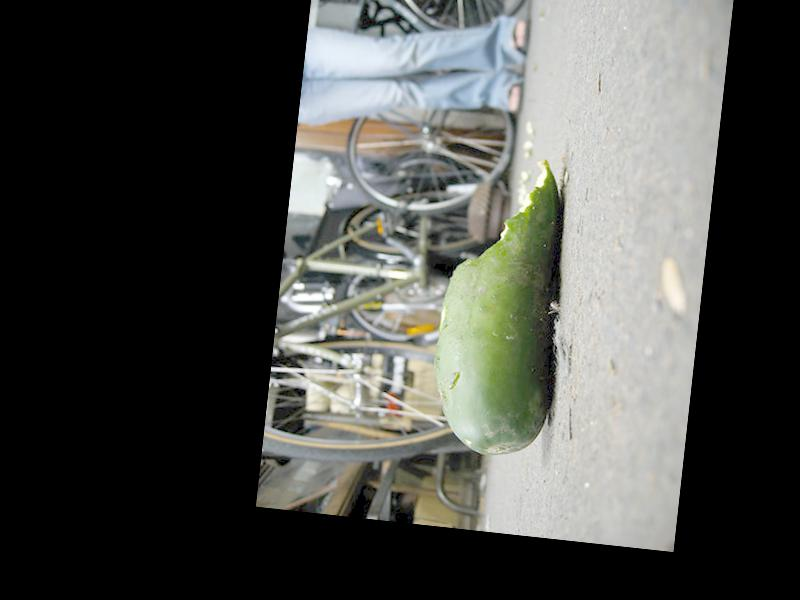Cucumber: (426, 146, 574, 459)
